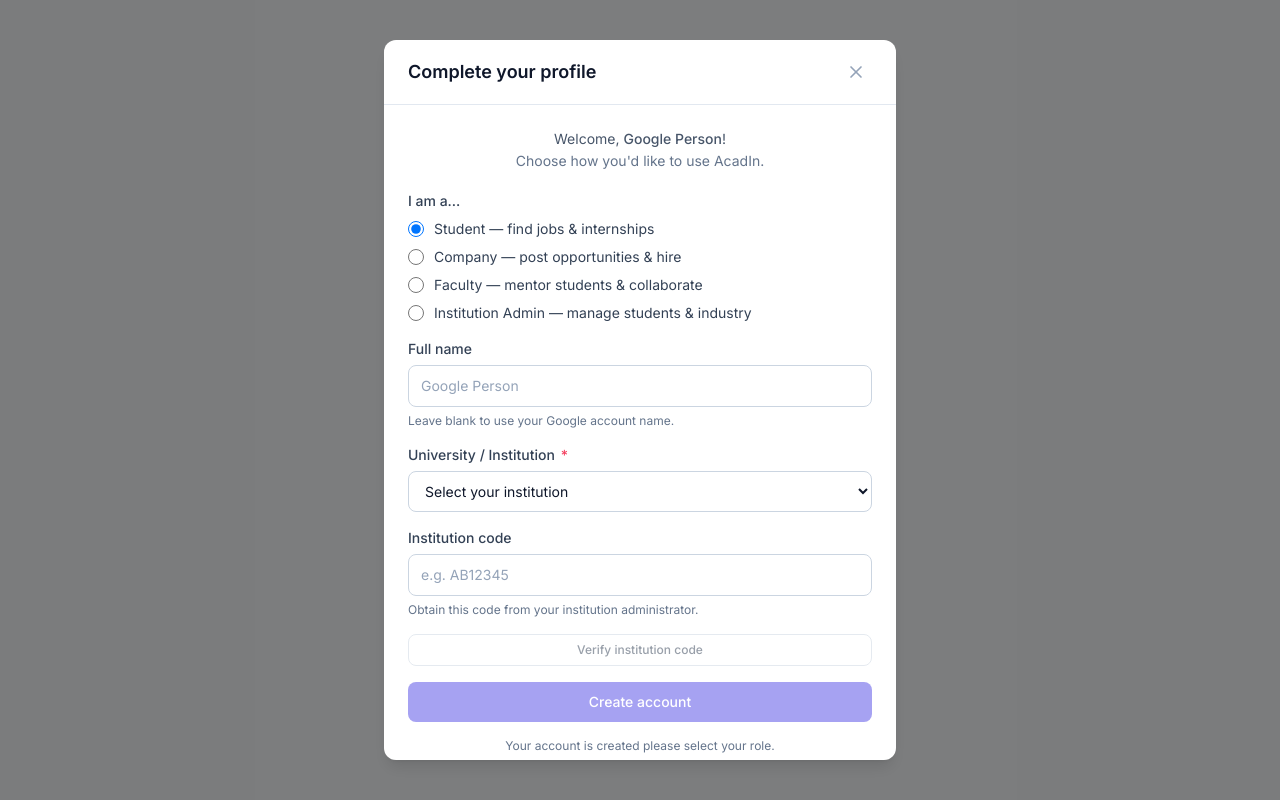
it: GoogleOnboardingModal — successful submission for all four roles › STUDENT: a blank Full name falls back to the Google account name
Later steps or results of the test are not shown.
Select "Test Institute" in the dropdown labelled "University / Institution *" at x=640, y=492, box [408, 471, 872, 512]
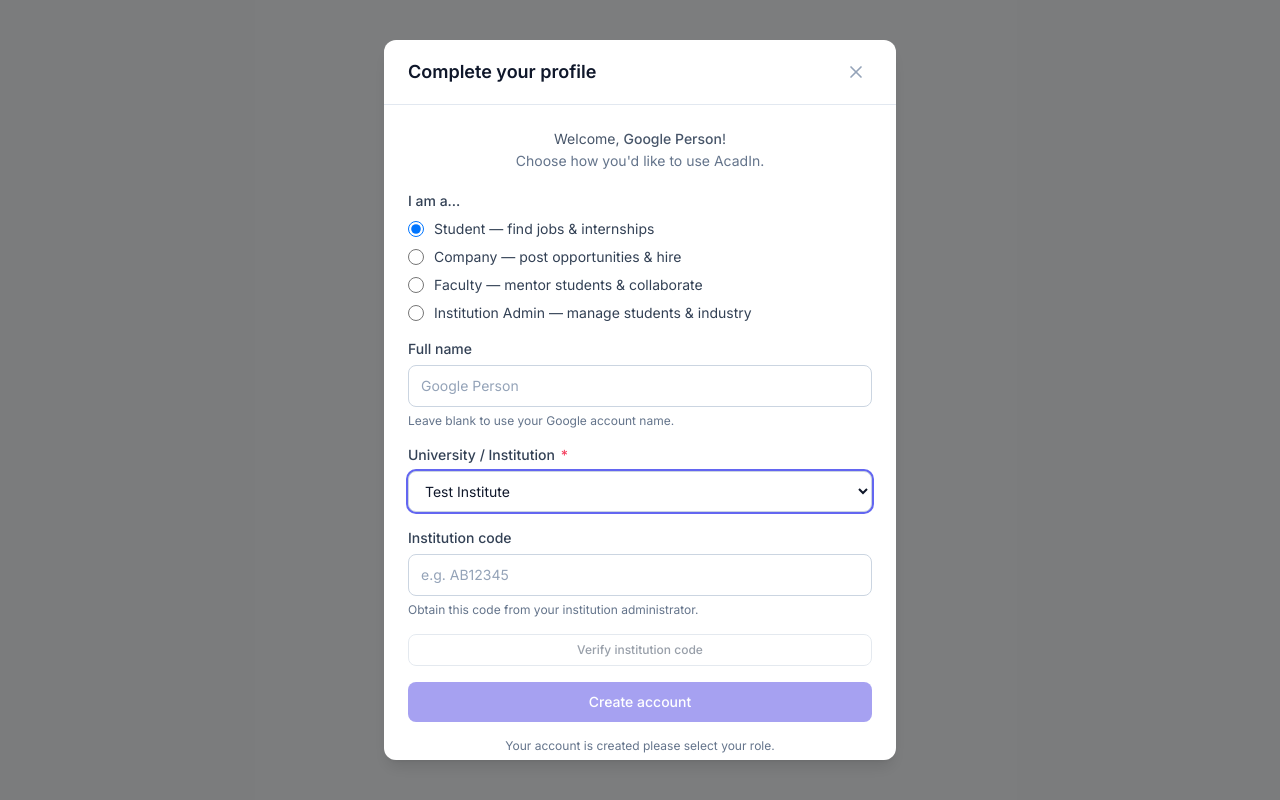
Type "AB12345" into the field labelled "Institution code" at x=640, y=575, box [408, 554, 872, 596]
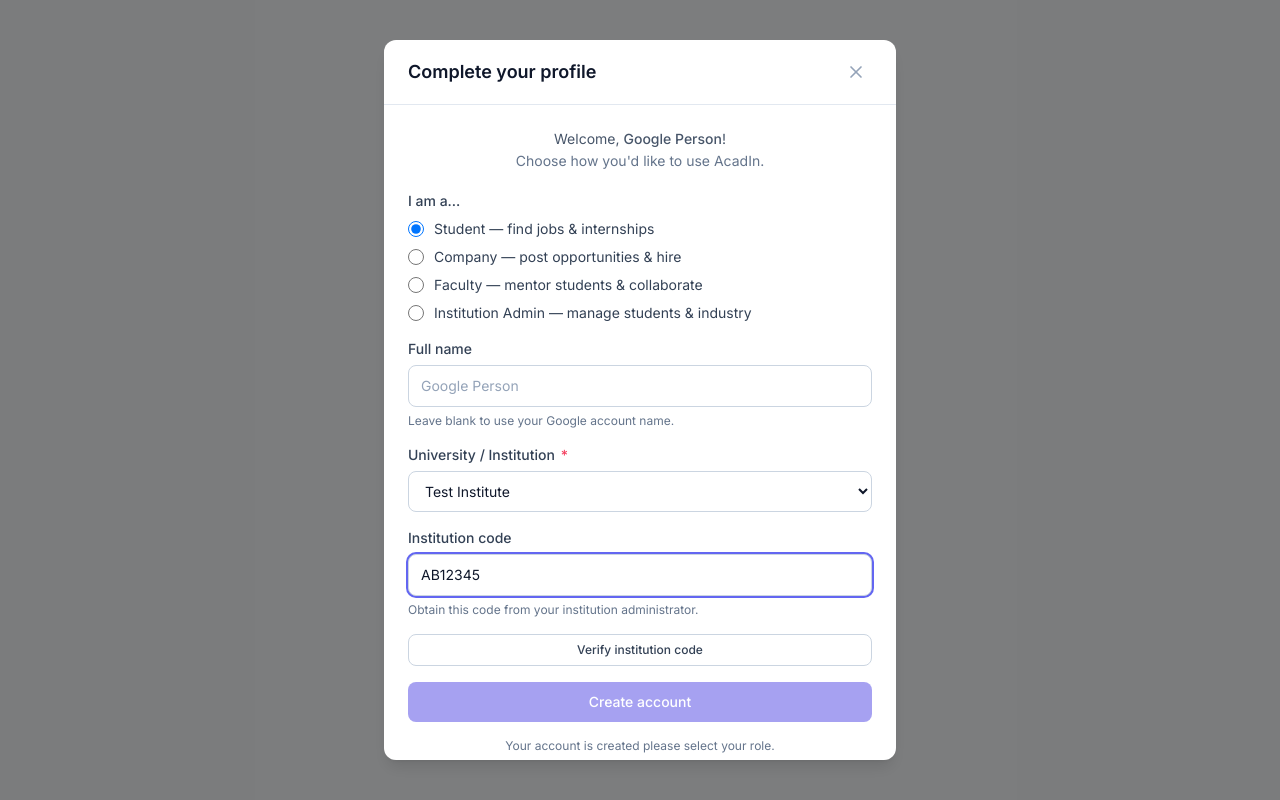
Click the button "Verify institution code" at x=640, y=650, box [408, 634, 872, 666]
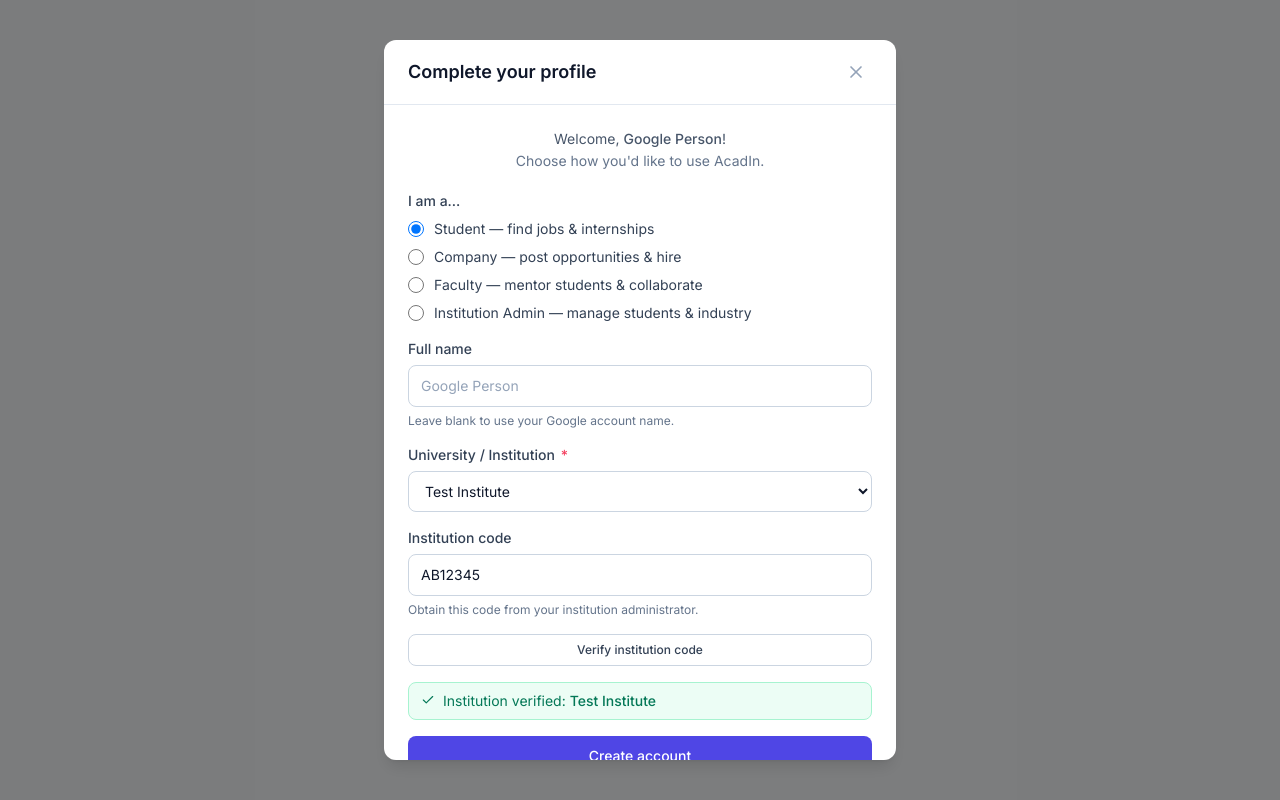
Now the text "Institution verified: Test Institute" is shown, box [443, 691, 656, 711]
